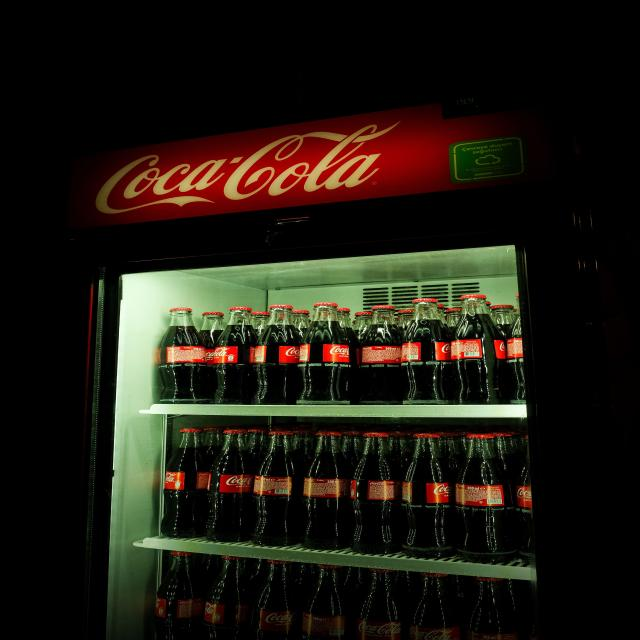Bottle: (456, 434, 515, 563), (403, 434, 456, 558), (452, 294, 508, 404), (351, 433, 401, 553), (303, 432, 353, 549), (253, 431, 302, 545), (402, 299, 454, 404), (207, 430, 255, 542), (161, 429, 210, 537), (298, 303, 350, 404), (160, 308, 213, 403), (254, 305, 301, 404), (155, 551, 204, 639), (359, 306, 402, 404), (214, 307, 257, 404), (204, 556, 251, 639), (252, 560, 299, 639), (410, 573, 464, 639), (355, 568, 401, 640), (302, 564, 346, 639), (467, 577, 518, 639), (338, 308, 361, 404), (493, 432, 521, 508), (199, 312, 223, 399), (516, 450, 534, 560), (342, 567, 368, 638), (438, 432, 466, 497), (394, 571, 418, 638), (507, 315, 525, 403), (199, 312, 224, 365), (387, 431, 409, 483), (293, 563, 318, 603), (293, 430, 316, 473), (247, 427, 268, 474), (202, 427, 224, 471), (248, 559, 269, 604), (342, 431, 362, 478), (196, 554, 221, 589), (491, 305, 514, 339), (354, 312, 372, 342), (252, 312, 269, 340), (293, 310, 310, 335), (399, 309, 414, 335), (445, 308, 462, 328), (437, 303, 446, 324), (515, 293, 519, 314)
